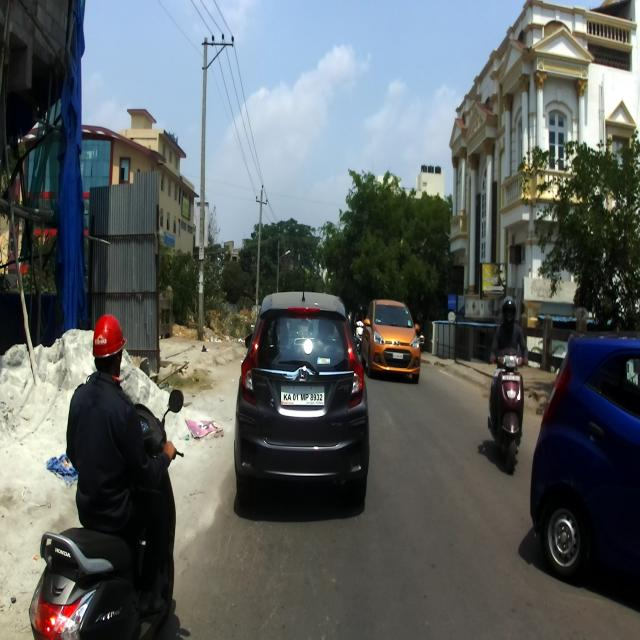car ahead at: (229, 283, 369, 509), (366, 301, 419, 381)
electric pole ahead at: (198, 28, 222, 350)
motorcycle ahead at: (32, 530, 188, 628), (491, 347, 528, 480)
